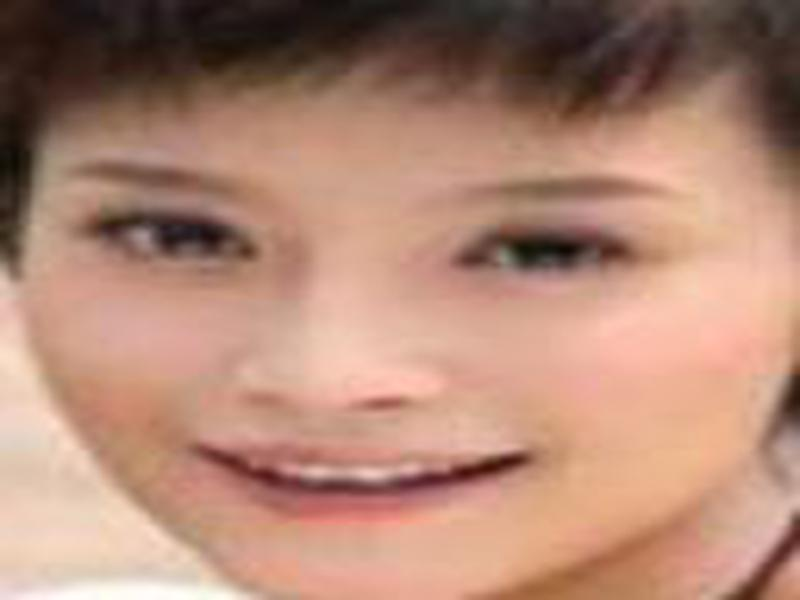without_mask: (21, 99, 800, 600)
